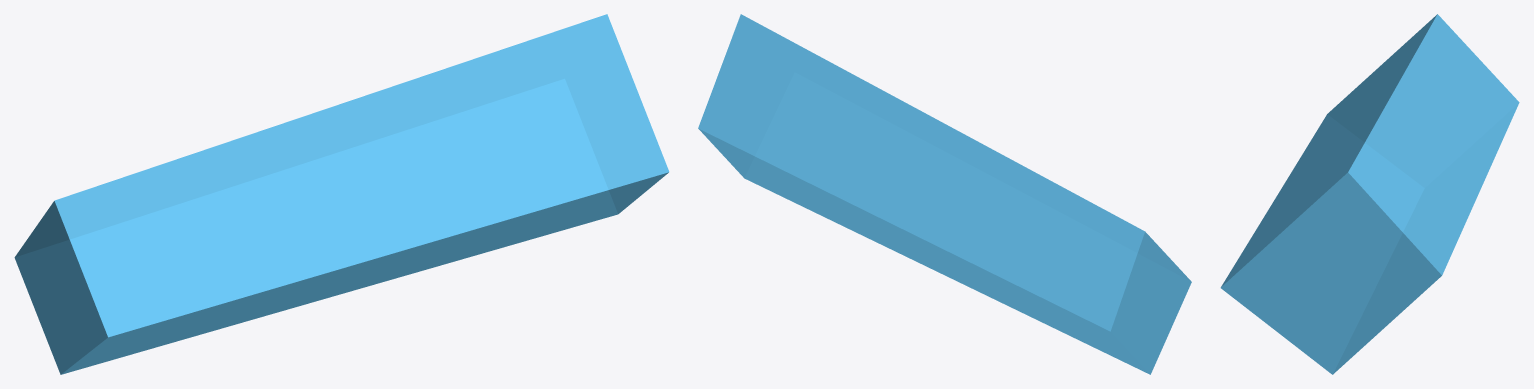
Rendered from Event_421115418_HErechit_57.fbx.
3 renders of one model, left to right at view 1: azimuth 30°, elevation 25°; view 2: azimuth 150°, elevation 25°; view 3: azimuth 270°, elevation 25°, orthographic. The views are drawn at different scales.
Parts seen in each view (by area): view 1: Model; view 2: Model; view 3: Model.
Part boxes in pixels (x1,y1,x2,y2): Model: (14, 14, 669, 374); Model: (698, 14, 1191, 374); Model: (1220, 14, 1519, 374).
Bounding box in the file's own units: 1.59 × 0.7841 × 0.7841.
